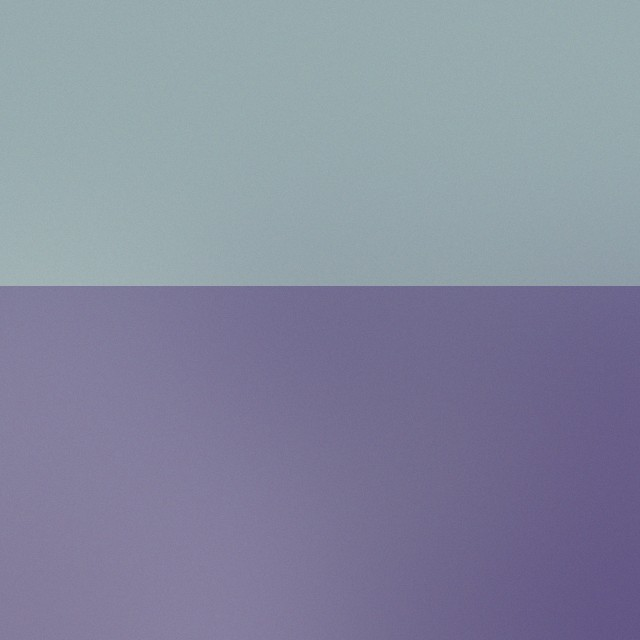smoke: (74, 252, 462, 640)
